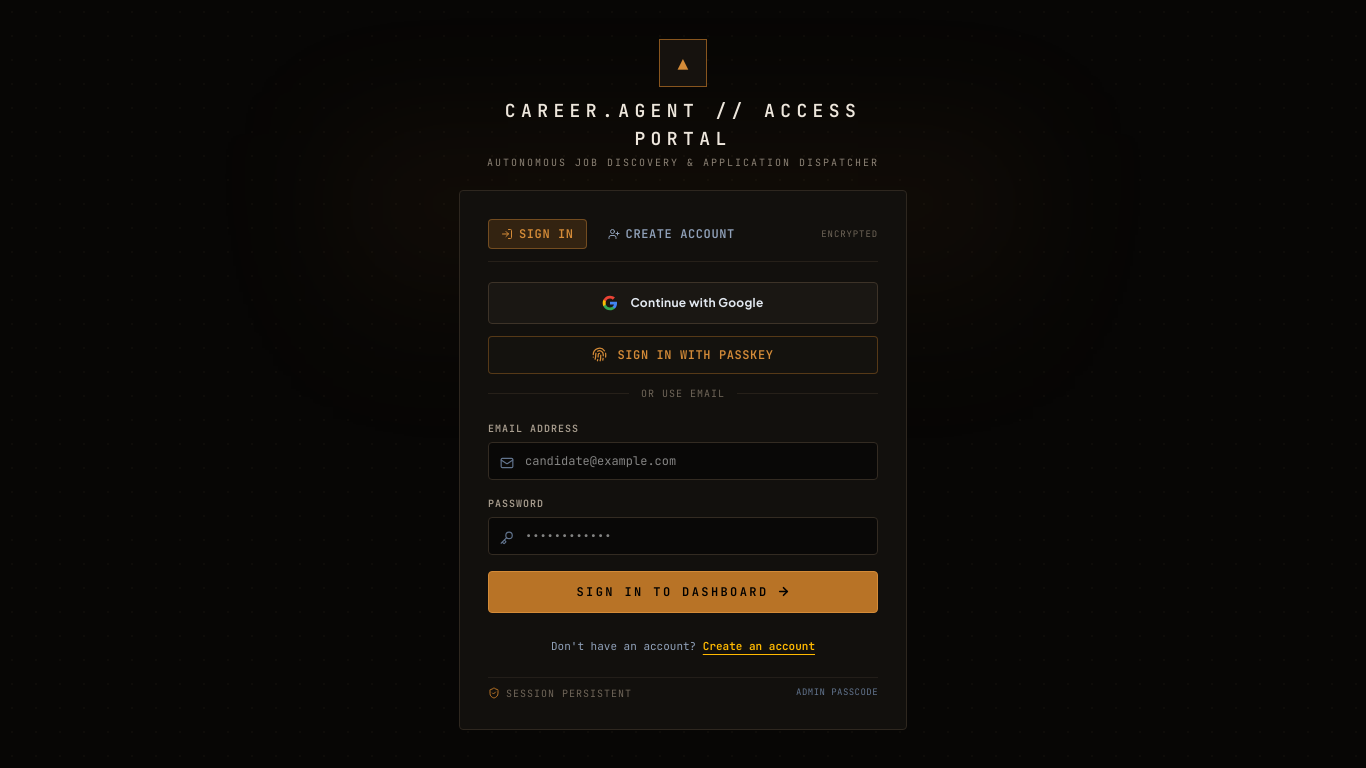
Test case: SiteGate Authentication Component › switches to Create Account form with Full Name and Confirm Password fields
The width and height of the screenshot is (1366, 768).
Click the button "Create Account" at (671, 234), box [595,218,748,248]
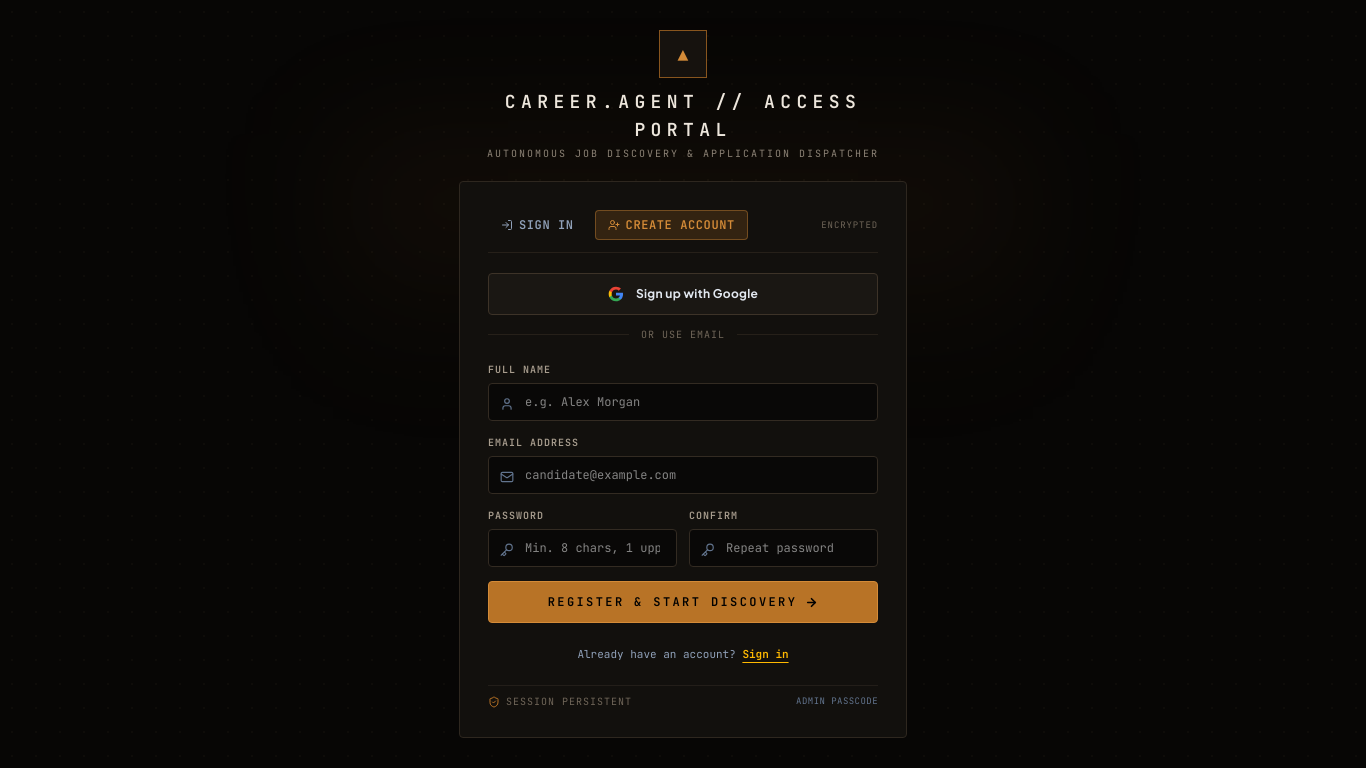
Expected: the field with placeholder "e.g. Alex Morgan" is shown, [488,383,878,421]
Expected: the password field with placeholder "Min. 8 chars, 1 upper, 1 special" is shown, [488,529,677,567]
Expected: the password field with placeholder "Repeat password" is shown, [689,529,878,567]
